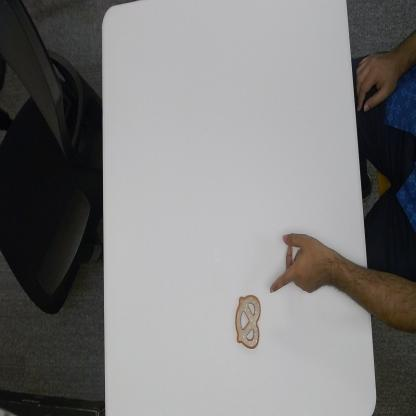Arm: (332, 247, 416, 333)
Hand: (268, 227, 335, 297)
Pretzel: (234, 288, 262, 350)
